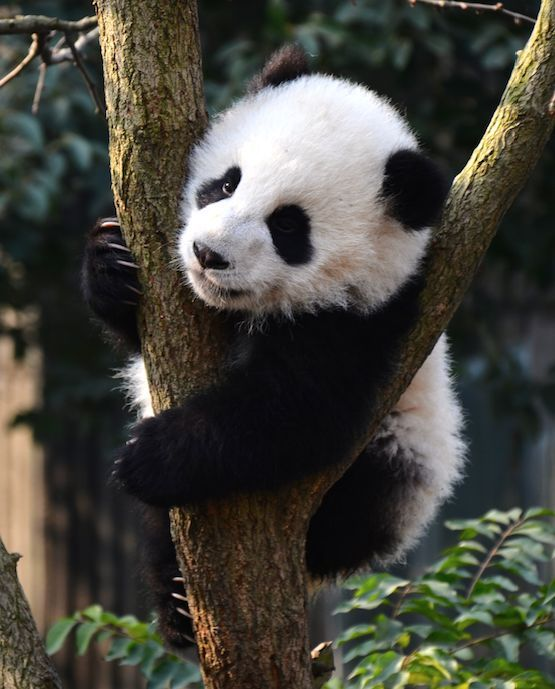panda: (88, 61, 475, 574)
